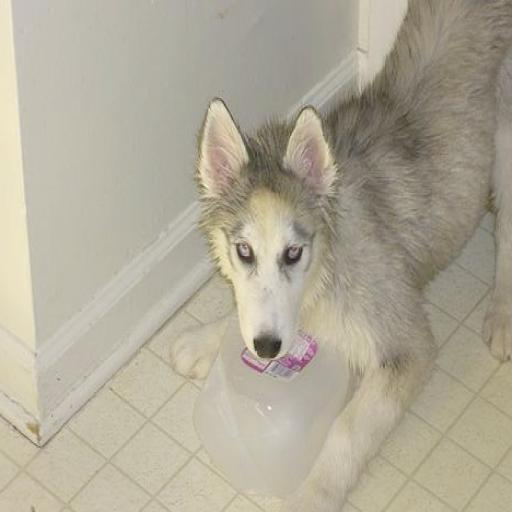dog_face: (194, 113, 341, 362)
